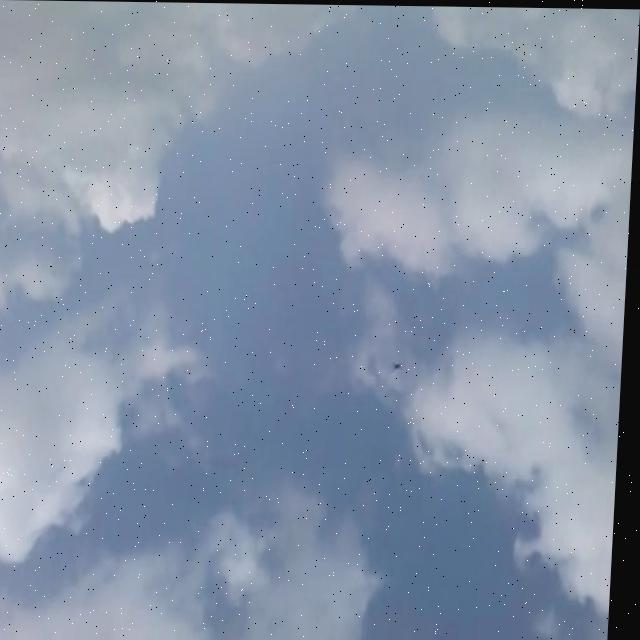drone: (394, 354, 411, 379)
